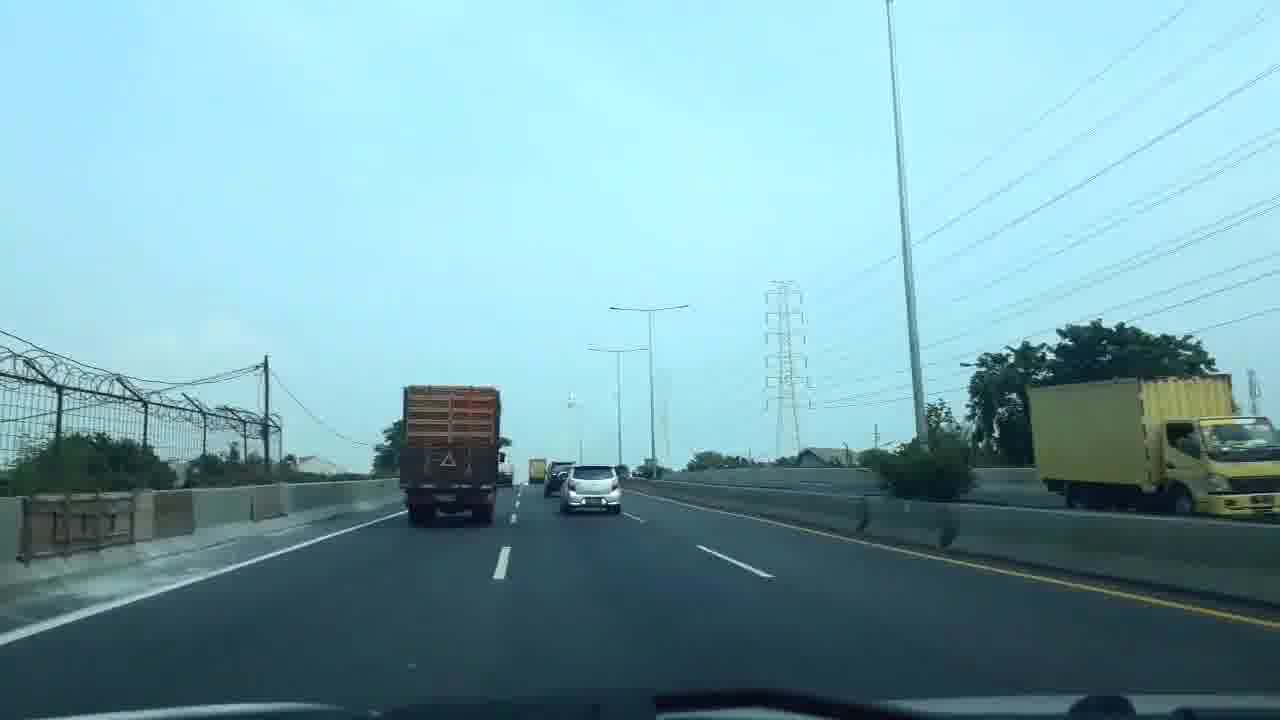plate_positive: (432, 494, 456, 503), (585, 497, 602, 504)
